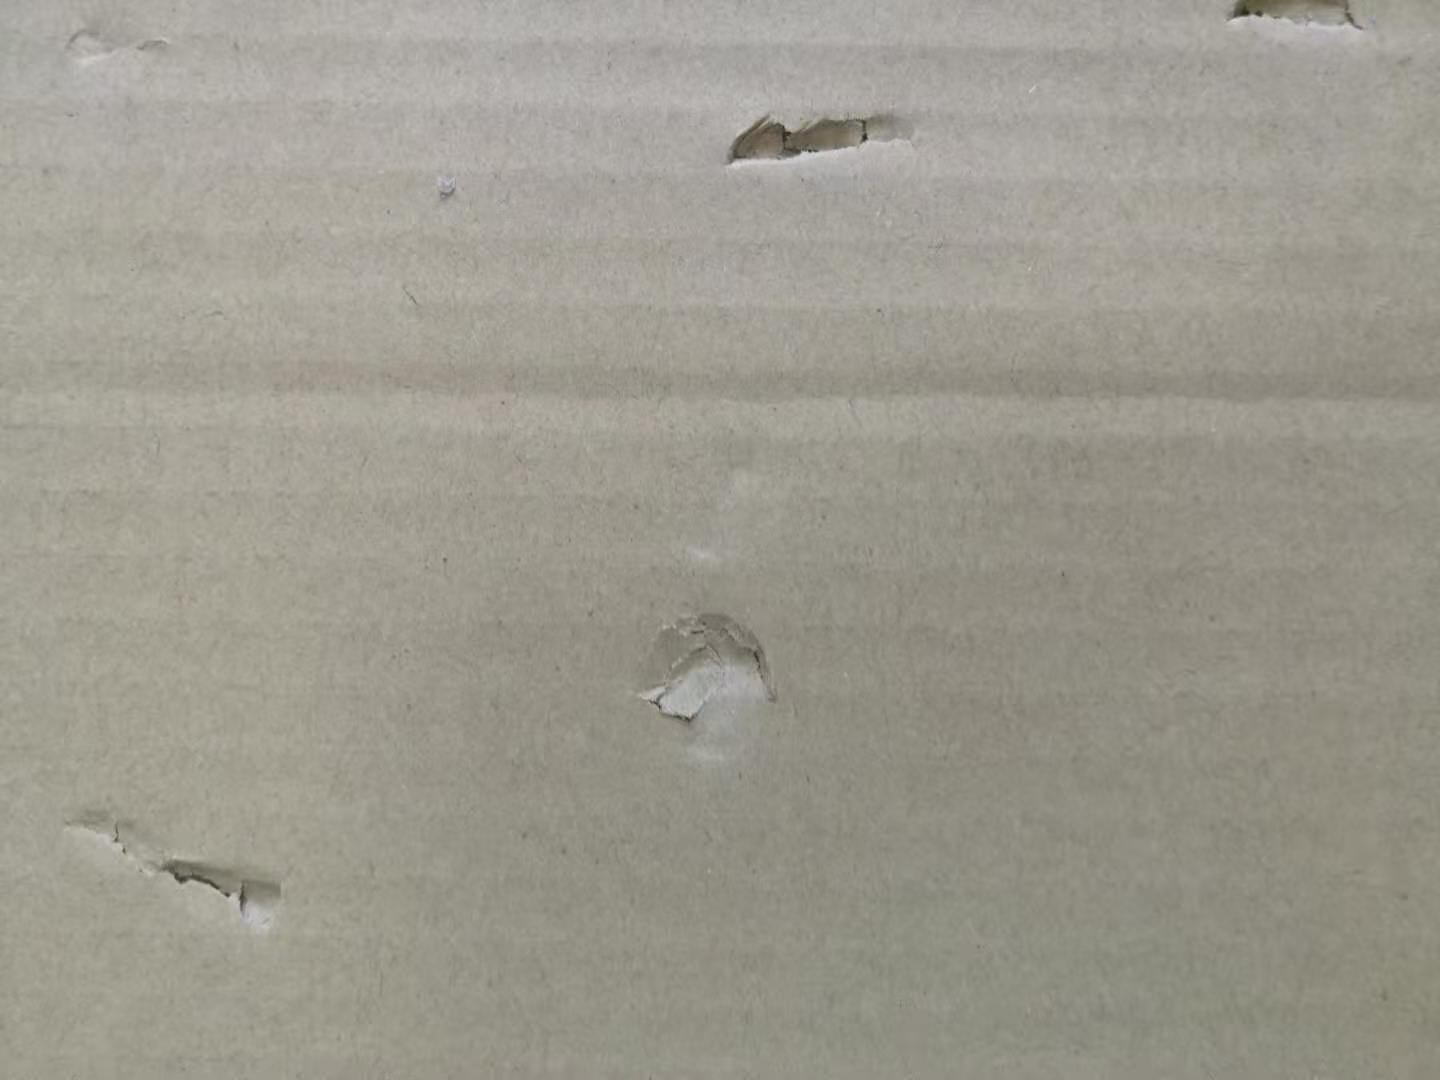defect: (5, 331, 1440, 475), (26, 773, 339, 959), (596, 546, 808, 811), (695, 84, 948, 187), (1205, 1, 1388, 54), (50, 11, 180, 79)
